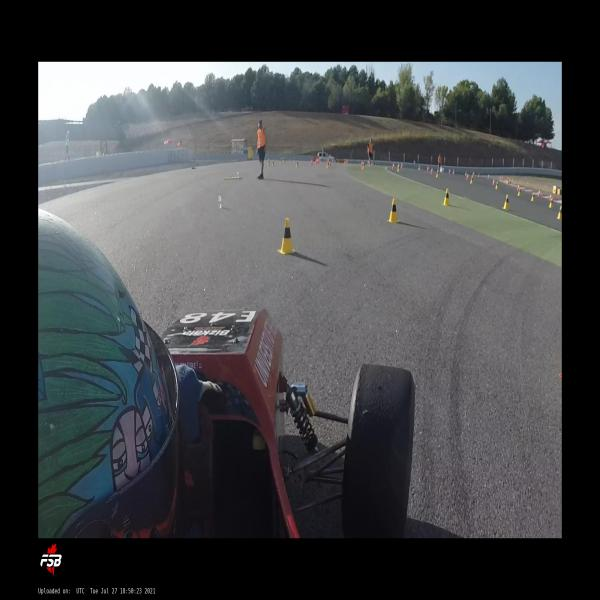orange_cone: (537, 189, 541, 196), (492, 178, 495, 185), (466, 174, 469, 180), (517, 185, 519, 191)
yellow_cone: (276, 218, 296, 254), (387, 198, 400, 223), (442, 188, 450, 206), (502, 194, 510, 210), (556, 206, 562, 219), (548, 197, 553, 208), (531, 192, 535, 202), (435, 170, 439, 178), (517, 189, 521, 196), (495, 181, 498, 189), (470, 176, 473, 184), (362, 162, 365, 170), (326, 162, 329, 168), (397, 164, 399, 172), (296, 160, 298, 168), (272, 161, 274, 167), (268, 159, 270, 165), (280, 158, 282, 164), (282, 158, 284, 163), (284, 158, 285, 163)
